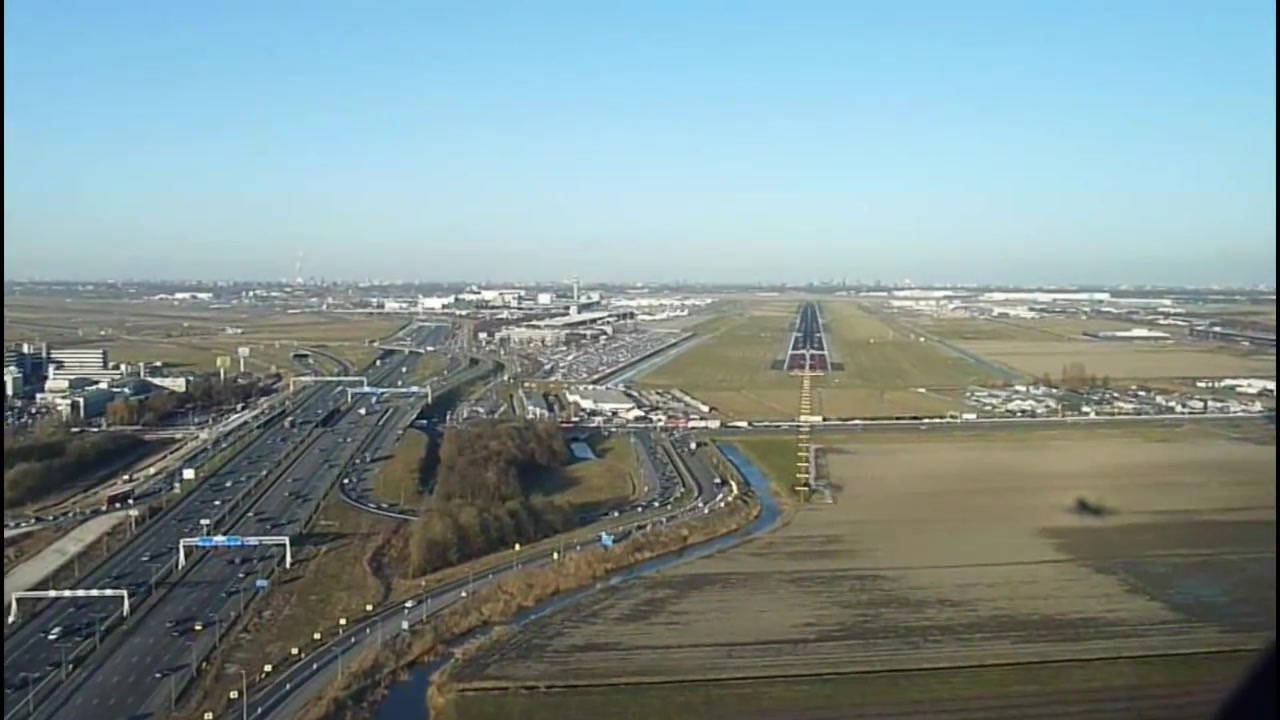runway: (781, 306, 830, 374)
